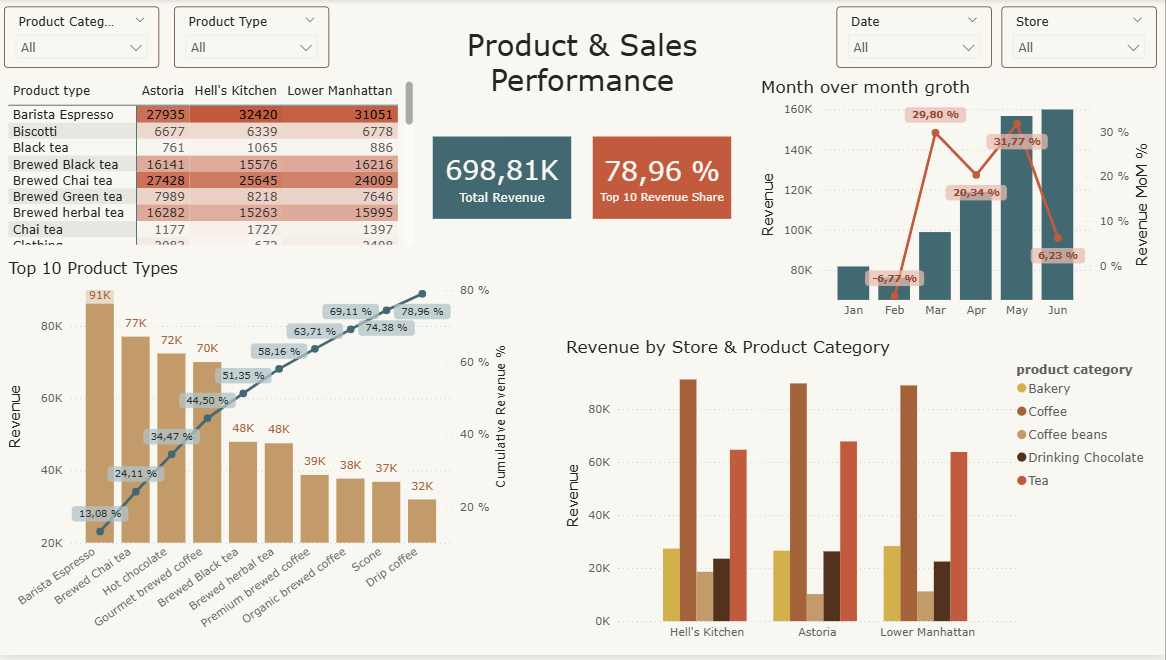

What the dashboard file says about the page in this screenshot:
{"tool":"powerbi","page":{"name":"Product & Sales Performance","canvas":[1280,720],"ordinal":1},"visuals":[{"type":"slicer","title":"Date","fields":{"Values":["Calendar.Date.Variation.Date Hierarchy.Month","Calendar.Date.Variation.Date Hierarchy.Day"]},"box":[919.4,8,170.2,67.2],"z":0},{"type":"slicer","title":"Date","fields":{"Values":["public coffee_sales.store_location"]},"box":[1100.5,8,170.2,67.2],"z":1000},{"type":"slicer","title":"Date","fields":{"Values":["public coffee_sales.product_category"]},"box":[5.5,8.2,170.2,67.2],"z":2000},{"type":"textbox","box":[476.2,26.1,328,98.8],"z":3000},{"type":"slicer","title":"Date","fields":{"Values":["public coffee_sales.product_type"]},"box":[192.1,8.2,170.2,67.2],"z":4000},{"type":"lineClusteredColumnComboChart","title":"Revenue by Store & Product Category","fields":{"Category":["public coffee_sales.store_location"],"Y":["Measures_.Total Revenue"],"Series":["public coffee_sales.product_category"]},"box":[617.5,370.5,653.2,341.7],"z":5000},{"type":"lineClusteredColumnComboChart","title":"Top 10 Product Types","fields":{"Category":["public coffee_sales.product_type"],"Y":["Measures_.Total Revenue"],"Y2":["Measures_.Cumulative Revenue %"]},"box":[5.5,284,559.9,428],"z":6000},{"type":"lineClusteredColumnComboChart","title":"Month over month groth","fields":{"Category":["Calendar.MONTH name"],"Y":["Measures_.Total Revenue"],"Y2":["Measures_.Revenue MoM %"]},"box":[831.6,85.1,439.1,274.4],"z":7000},{"type":"card","fields":{"Values":["Sum(public coffee_sales.revenue)"]},"box":[476.2,150.9,152.3,90.6],"z":8000},{"type":"card","fields":{"Values":["Measures_.Revenue product type %"]},"box":[651.8,150.9,152.3,90.6],"z":9000},{"type":"pivotTable","fields":{"Rows":["public coffee_sales.product_type"],"Columns":["public coffee_sales.store_location"],"Values":["Measures_.Total Revenue"]},"box":[5.5,85.1,454.2,190],"z":10000}]}

Visuals, with their boxes in screenshot pixels (x1, y1, x2, y2), scaled from the page's 1280x720 canvas onto the 1166x660 screenshot:
"Date" slicer: Rect(838, 7, 993, 69)
"Date" slicer: Rect(1002, 7, 1158, 69)
"Date" slicer: Rect(5, 8, 160, 69)
textbox: Rect(434, 24, 733, 114)
"Date" slicer: Rect(175, 8, 330, 69)
"Revenue by Store & Product Category" lineClusteredColumnComboChart: Rect(563, 340, 1158, 653)
"Top 10 Product Types" lineClusteredColumnComboChart: Rect(5, 260, 515, 653)
"Month over month groth" lineClusteredColumnComboChart: Rect(758, 78, 1158, 330)
card - Sum(public coffee_sales.revenue): Rect(434, 138, 573, 221)
card - Measures_.Revenue product type %: Rect(594, 138, 732, 221)
pivotTable - public coffee_sales.product_type x public coffee_sales.store_location: Rect(5, 78, 419, 252)
